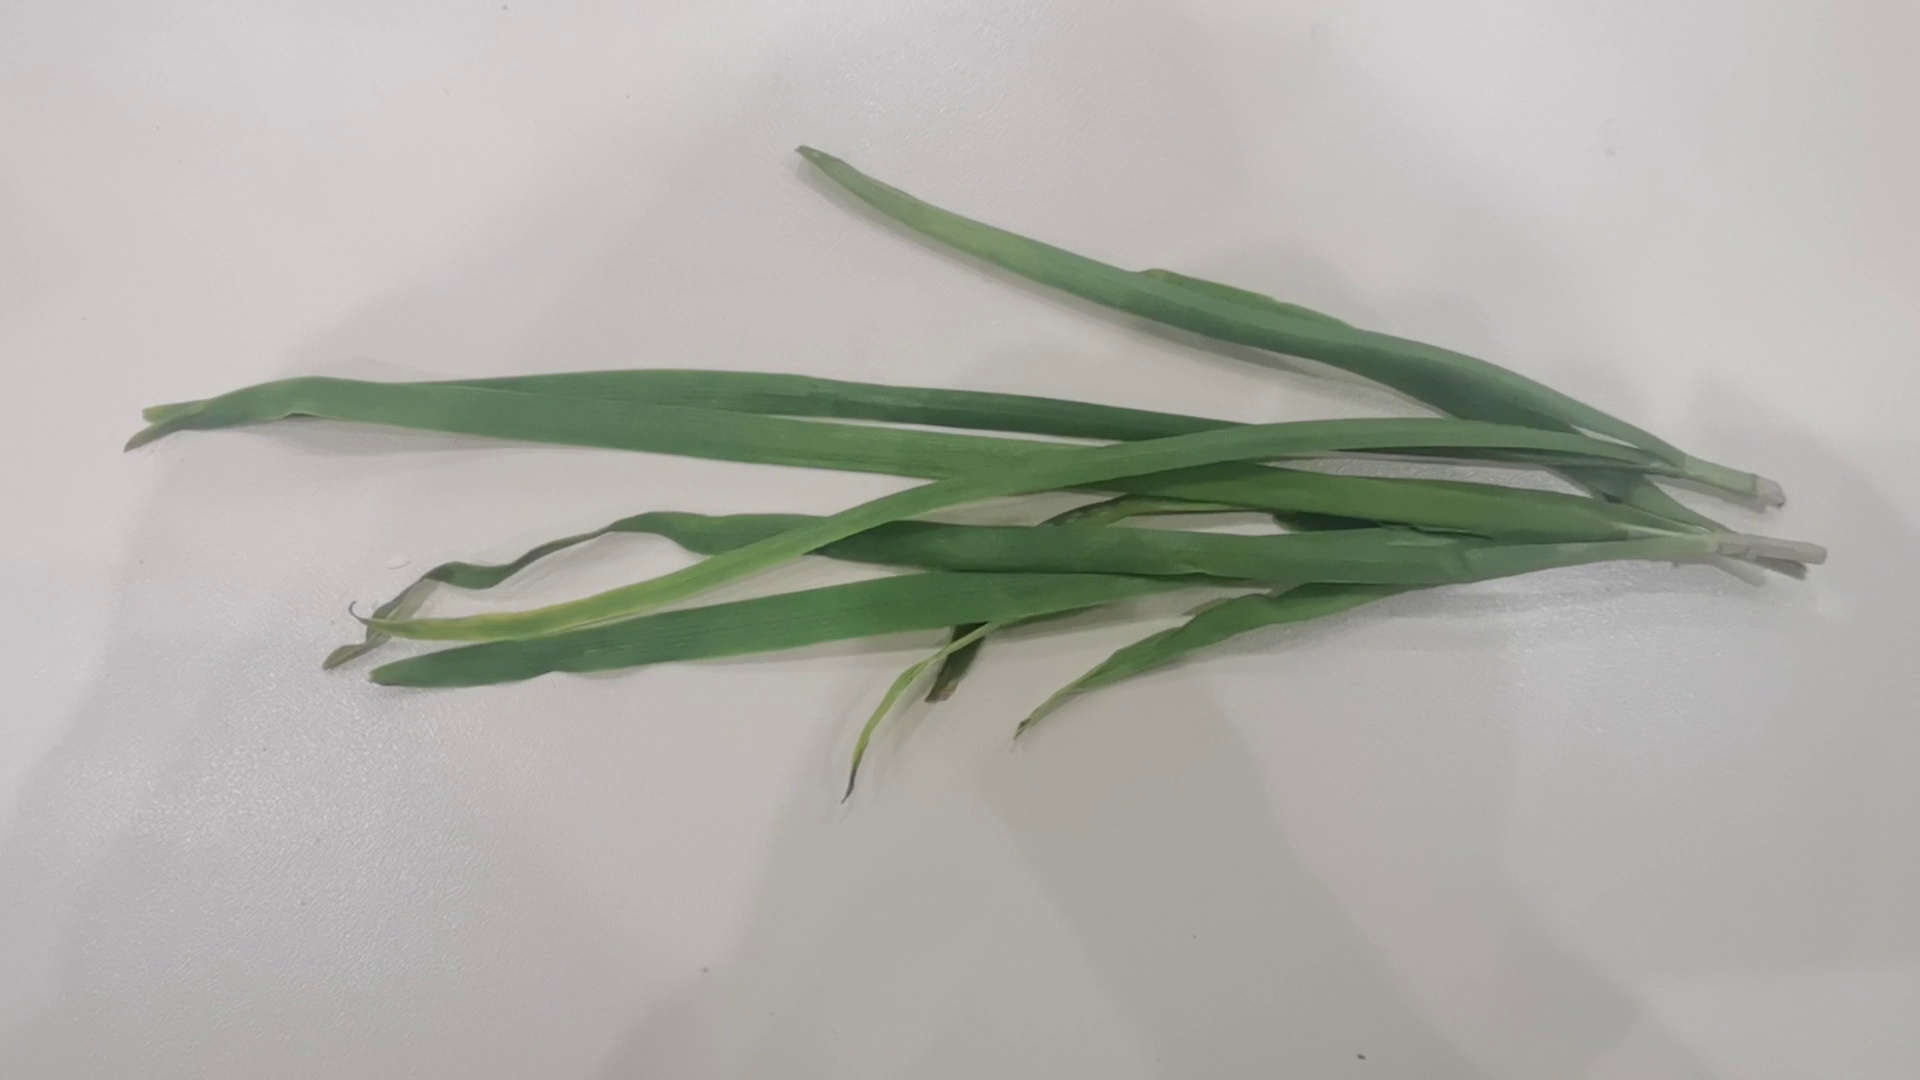chives: (84, 141, 1826, 816)
